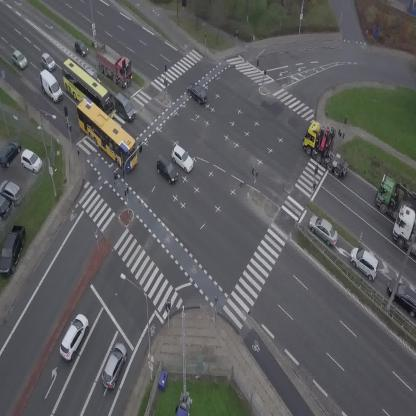bicycle: (112, 171, 119, 185)
bus: (67, 95, 148, 173), (50, 56, 124, 124)
car: (55, 311, 93, 361), (98, 340, 132, 390), (344, 243, 386, 283), (304, 212, 343, 249), (108, 92, 140, 122), (167, 144, 198, 174), (152, 155, 182, 185), (183, 79, 211, 106), (8, 49, 29, 72), (70, 37, 91, 59), (37, 51, 58, 72), (89, 69, 98, 78)
lorry: (294, 115, 364, 180), (87, 40, 141, 91), (392, 205, 416, 255), (34, 67, 65, 105)
